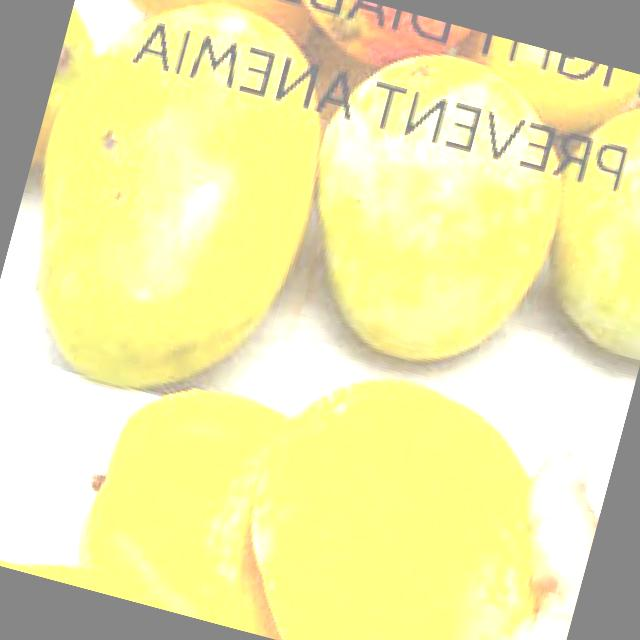Mango: (0, 0, 359, 422), (173, 335, 588, 640), (273, 26, 595, 388), (69, 366, 311, 633), (523, 75, 640, 359), (446, 28, 640, 159), (75, 0, 355, 67), (283, 0, 479, 94)
